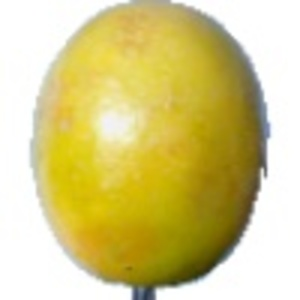maracujá: (32, 1, 274, 300)
